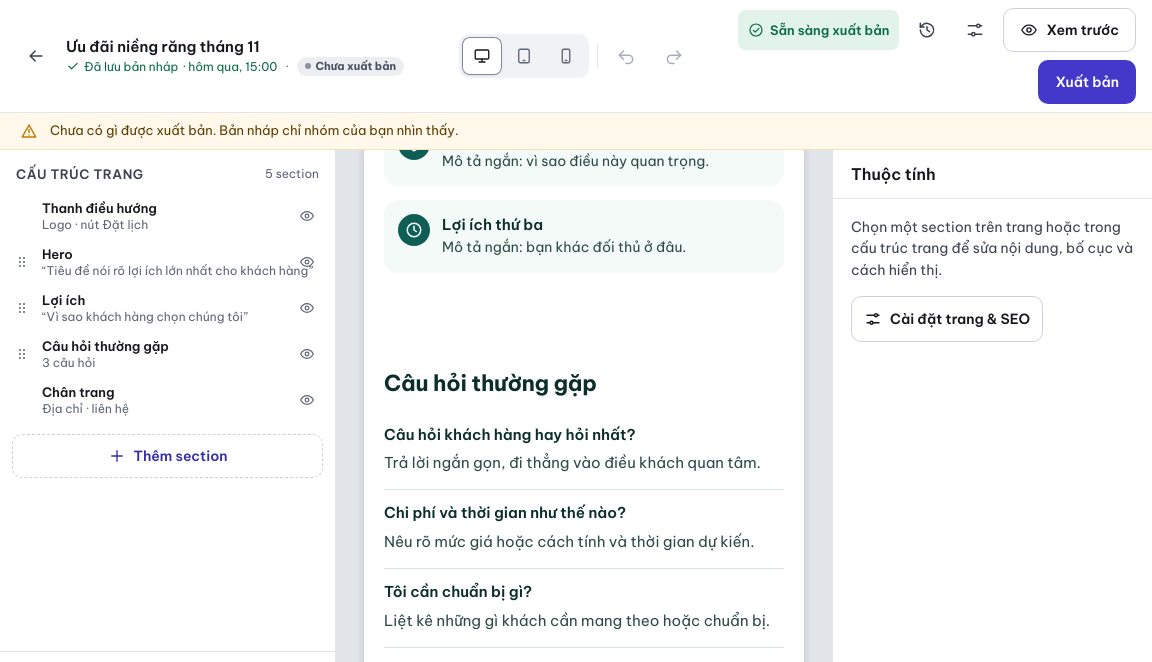
Test: EditorApp › selects a section from the canvas and deletes it after confirmation
(page scrolled)
Click the field "Câu hỏi khách hàng hay hỏi nhất?": (510, 434) [384,425,636,444]
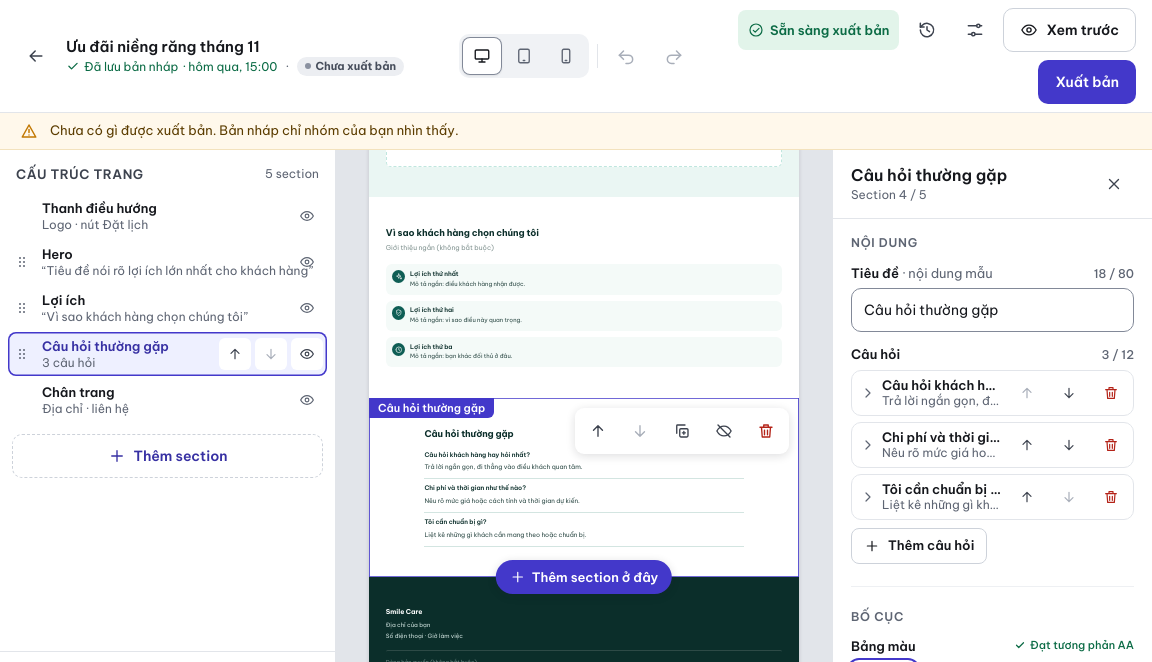
Expected: the text "Section 4 / 5" is shown, [851,187,927,202]
Click the button named "Xóa section": (766, 431) [746,411,786,451]
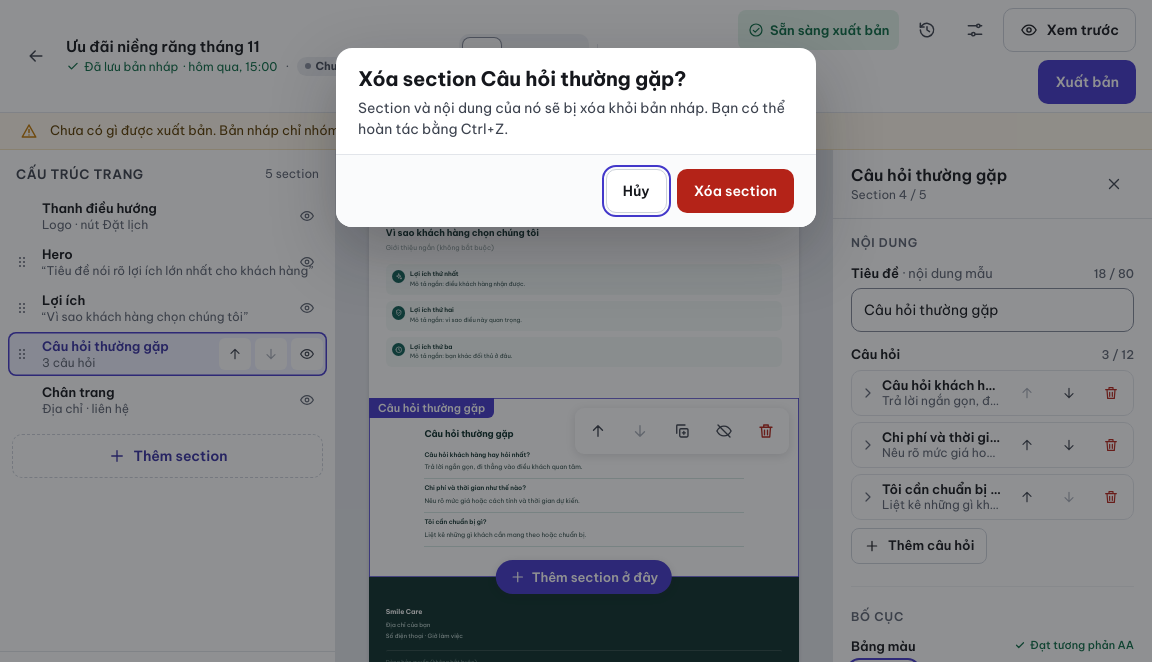
Click the button "Xóa section": (735, 191) [677,169,794,213]
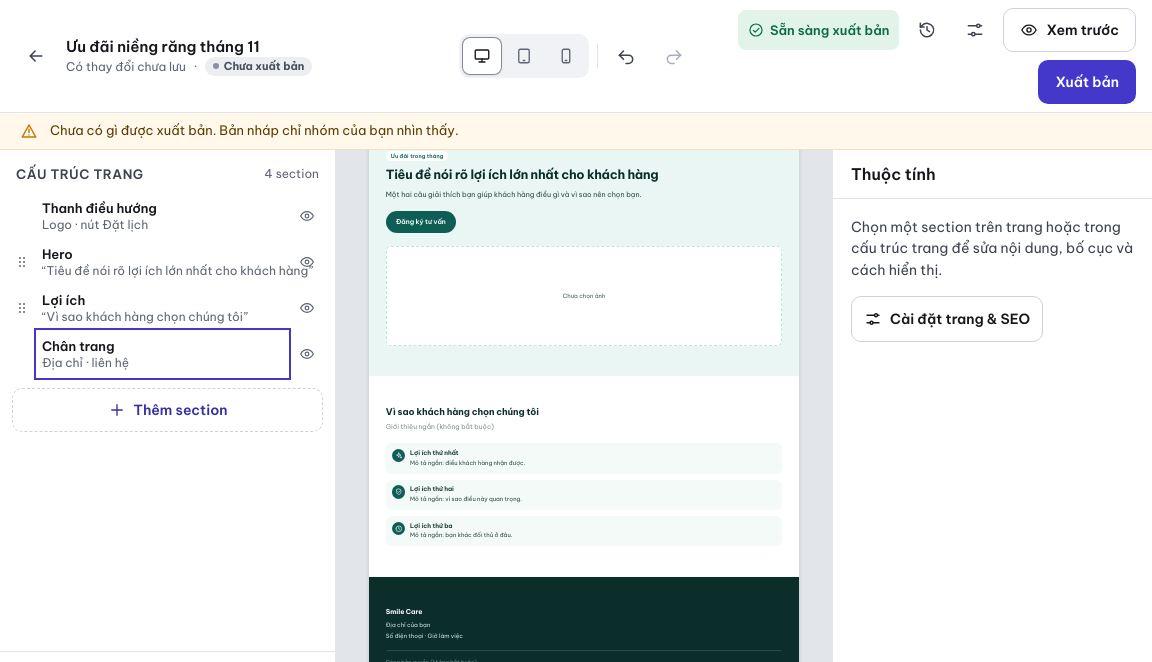
Expected: the field "Câu hỏi khách hàng hay hỏi nhất?" is gone
Expected: the text "4 section" is shown, [264,166,319,181]
Expected: the text "Có thay đổi chưa lưu" is shown, [66,59,186,74]
